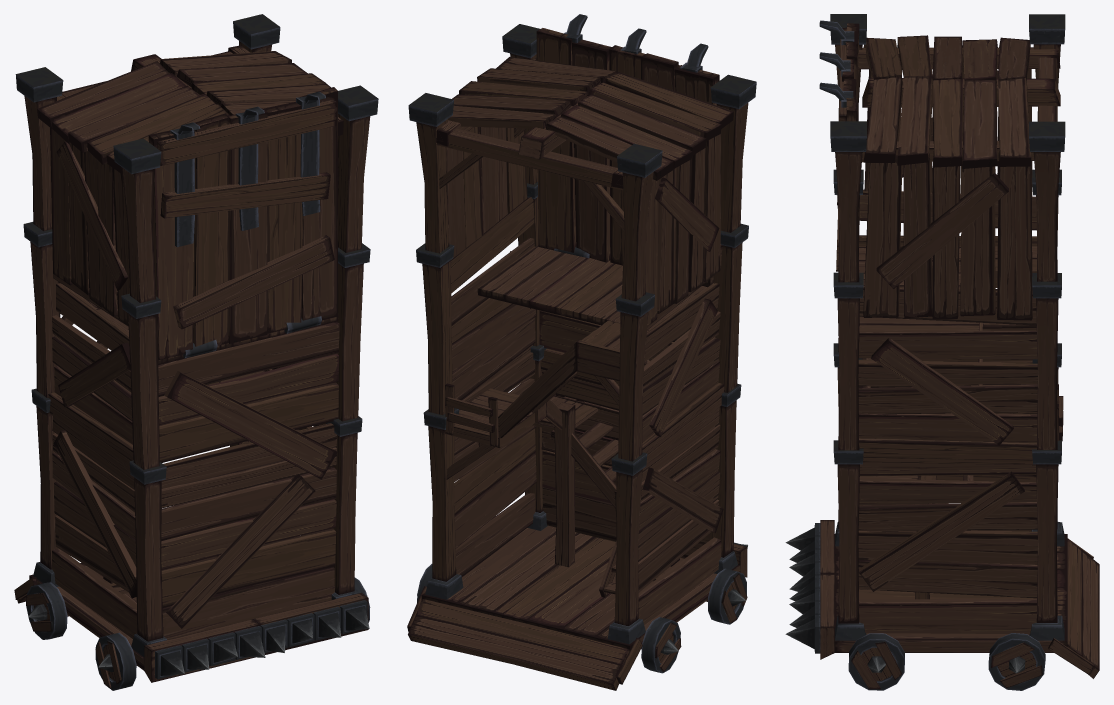
Rendered from SM_PROP_siegetower_battle.fbx.
3 views of the same model, side by side, from view 1: azimuth 30°, elevation 25°; view 2: azimuth 150°, elevation 25°; view 3: azimuth 270°, elevation 25° (orthographic). The views are drawn at different scales.
Visible parts, largest first — view 1: SM_PROP_siegetower_battle, SM_PROP_siegetower_drawbridge_battle, SM_PROP_siegetower_wheel_R_back_battle, SM_PROP_siegetower_wheel_R_front_battle; view 2: SM_PROP_siegetower_battle, SM_PROP_siegetower_drawbridge_battle, SM_PROP_siegetower_wheel_R_back_battle, SM_PROP_siegetower_wheel_R_front_battle; view 3: SM_PROP_siegetower_battle, SM_PROP_siegetower_drawbridge_battle, SM_PROP_siegetower_wheel_L_back_battle, SM_PROP_siegetower_wheel_L_front_battle.
Part boxes in pixels (<box>): SM_PROP_siegetower_battle: <box>14,14,378,682</box>; SM_PROP_siegetower_drawbridge_battle: <box>148,87,337,359</box>; SM_PROP_siegetower_wheel_R_back_battle: <box>26,582,67,639</box>; SM_PROP_siegetower_wheel_R_front_battle: <box>95,632,136,690</box>; SM_PROP_siegetower_battle: <box>407,24,756,690</box>; SM_PROP_siegetower_drawbridge_battle: <box>536,14,719,287</box>; SM_PROP_siegetower_wheel_R_back_battle: <box>641,617,681,673</box>; SM_PROP_siegetower_wheel_R_front_battle: <box>708,568,747,624</box>; SM_PROP_siegetower_battle: <box>785,14,1099,678</box>; SM_PROP_siegetower_drawbridge_battle: <box>819,20,859,271</box>; SM_PROP_siegetower_wheel_L_back_battle: <box>988,633,1045,690</box>; SM_PROP_siegetower_wheel_L_front_battle: <box>848,633,904,690</box>.
Bounding box in the file's own units: 576 × 1154 × 571.
